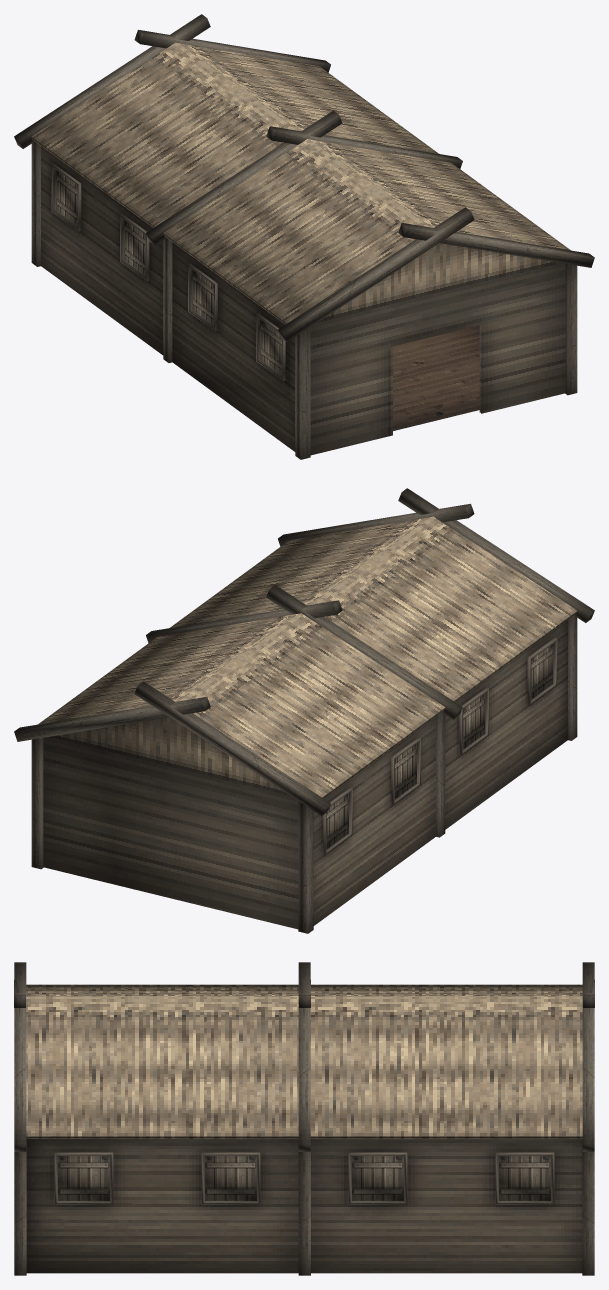
The model's file is oga_longhouse.glb.
3 views of the same model, one above another, from view 1: azimuth 30°, elevation 25°; view 2: azimuth 150°, elevation 25°; view 3: azimuth 270°, elevation 25° (orthographic). The views are drawn at different scales.
Visible parts, largest first — view 1: oga_longhouse; view 2: oga_longhouse; view 3: oga_longhouse.
Boxes of the visible parts, bbox=[...] form: oga_longhouse: bbox=[14, 14, 594, 459]; oga_longhouse: bbox=[14, 488, 594, 933]; oga_longhouse: bbox=[14, 962, 594, 1275].
Size of the model in its own units: 7.25 by 4.62 by 10.86.
1 material, 1 textured.
